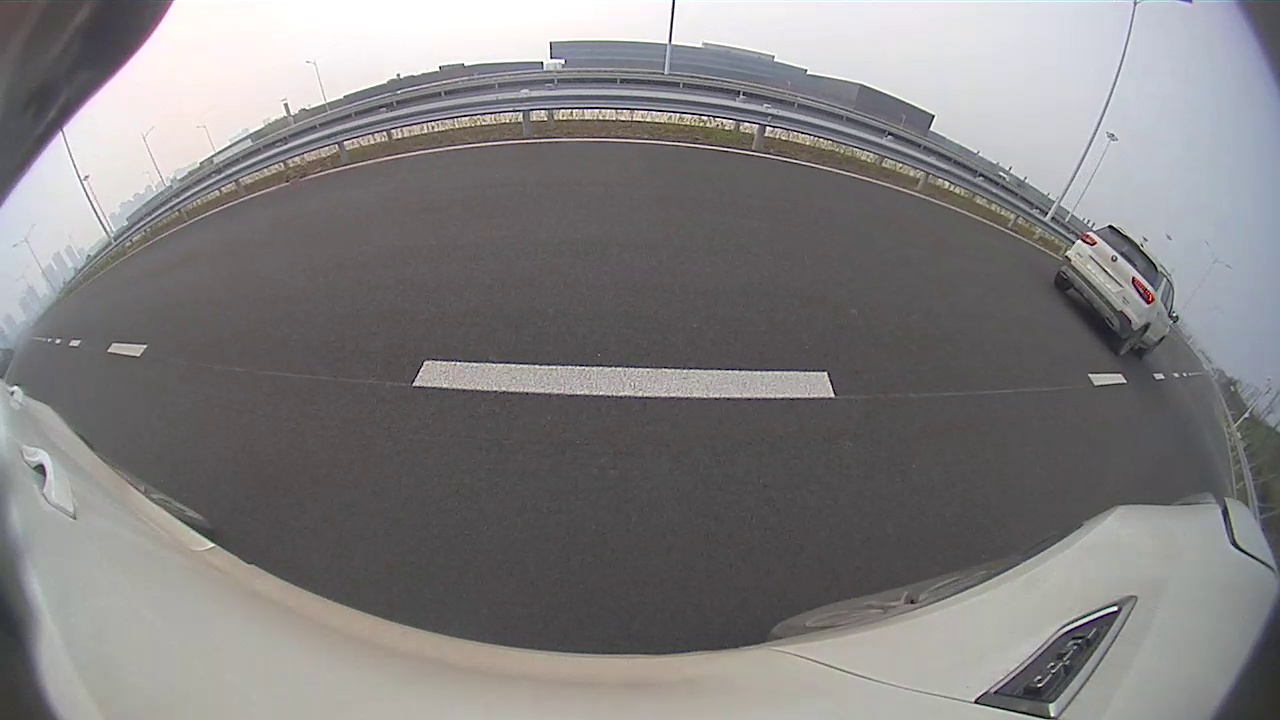car: (1055, 223, 1179, 355)
rear: (1117, 327, 1147, 356)
